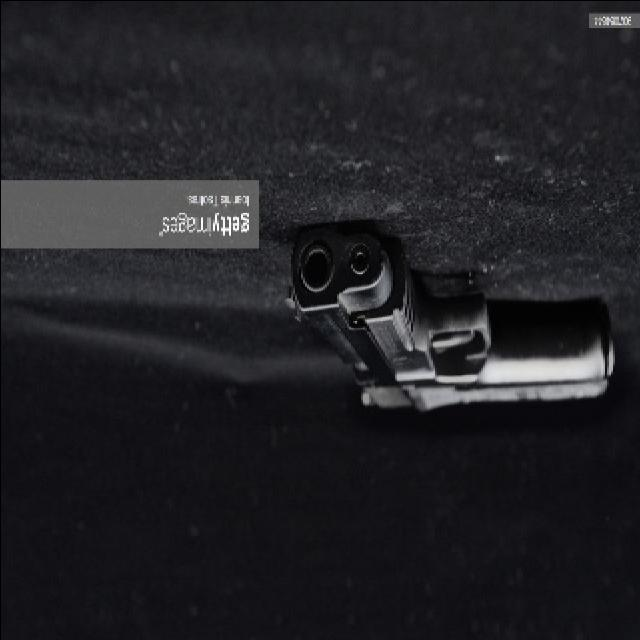handgun: (289, 231, 623, 415)
